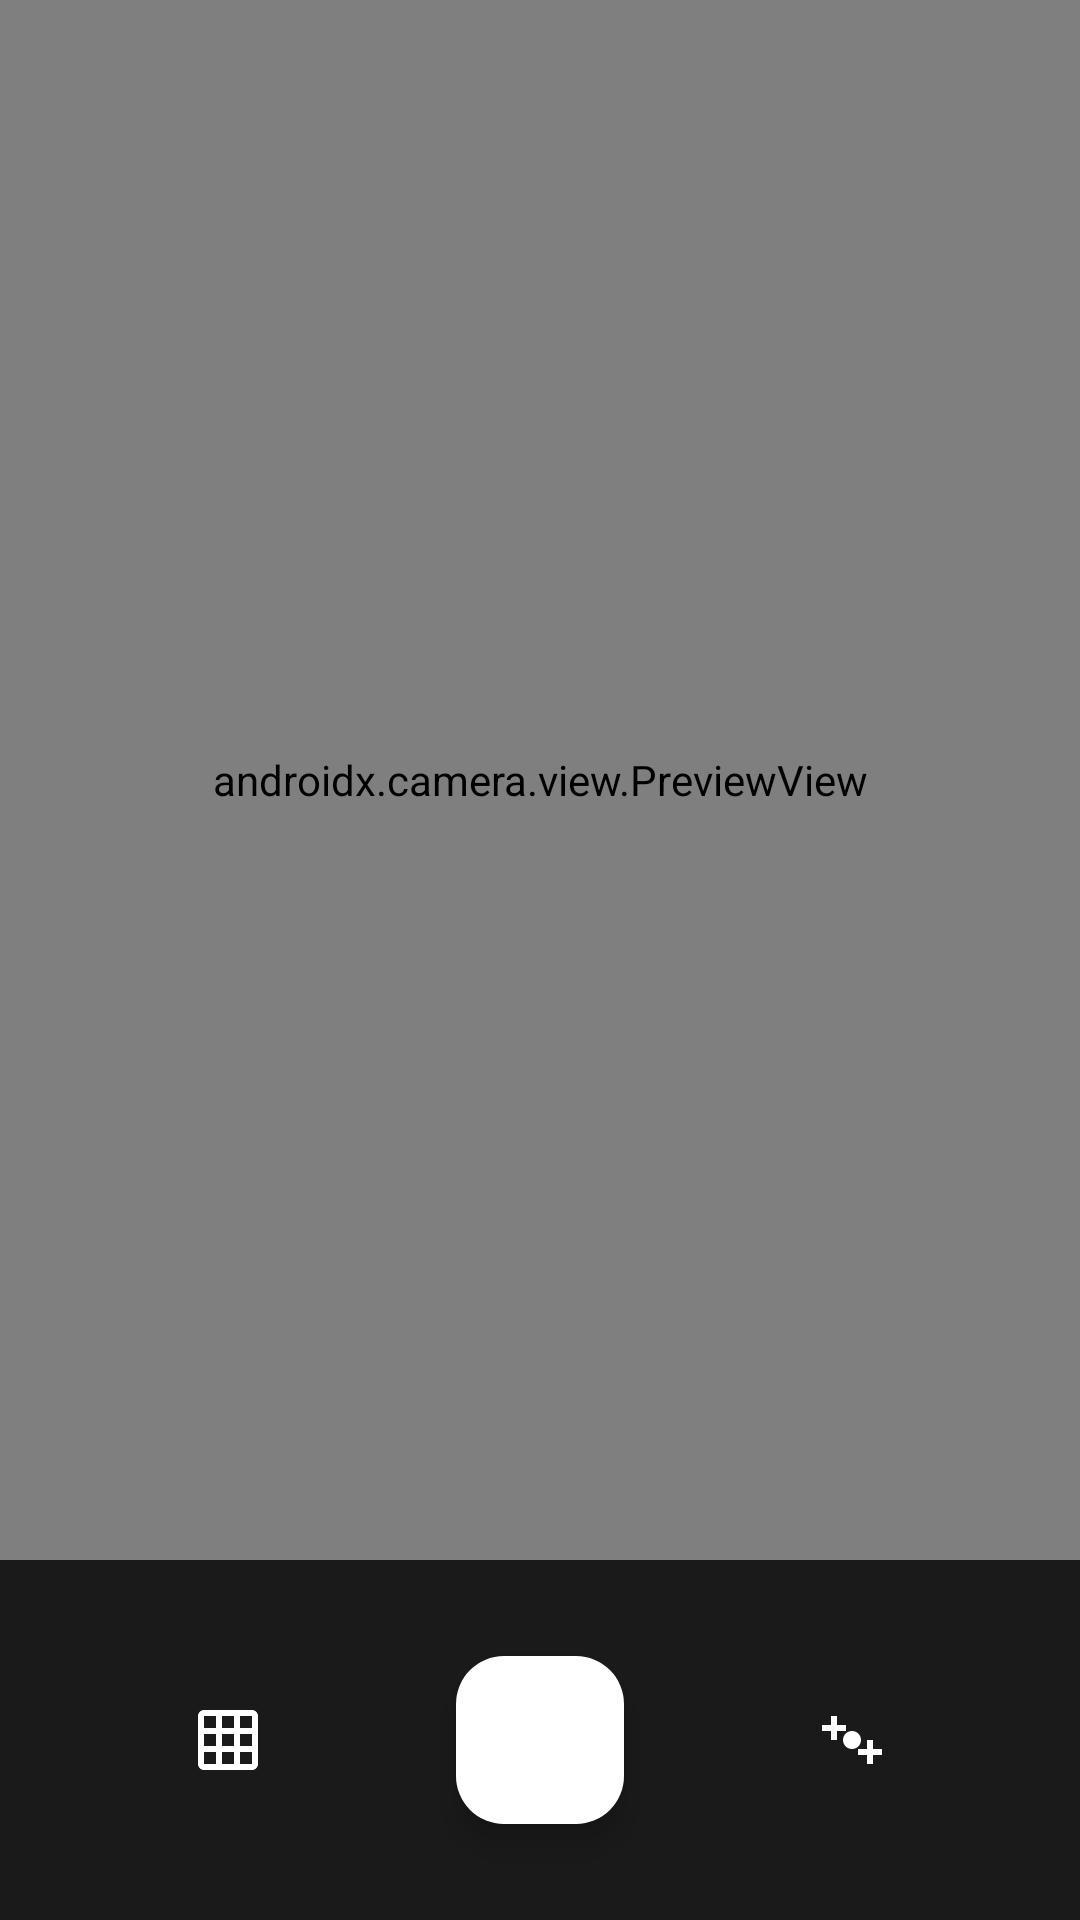

Icons on this 1080w x 1920h Android screen, each with the point to tap as point (x, y):
Grid: point (228, 1740)
